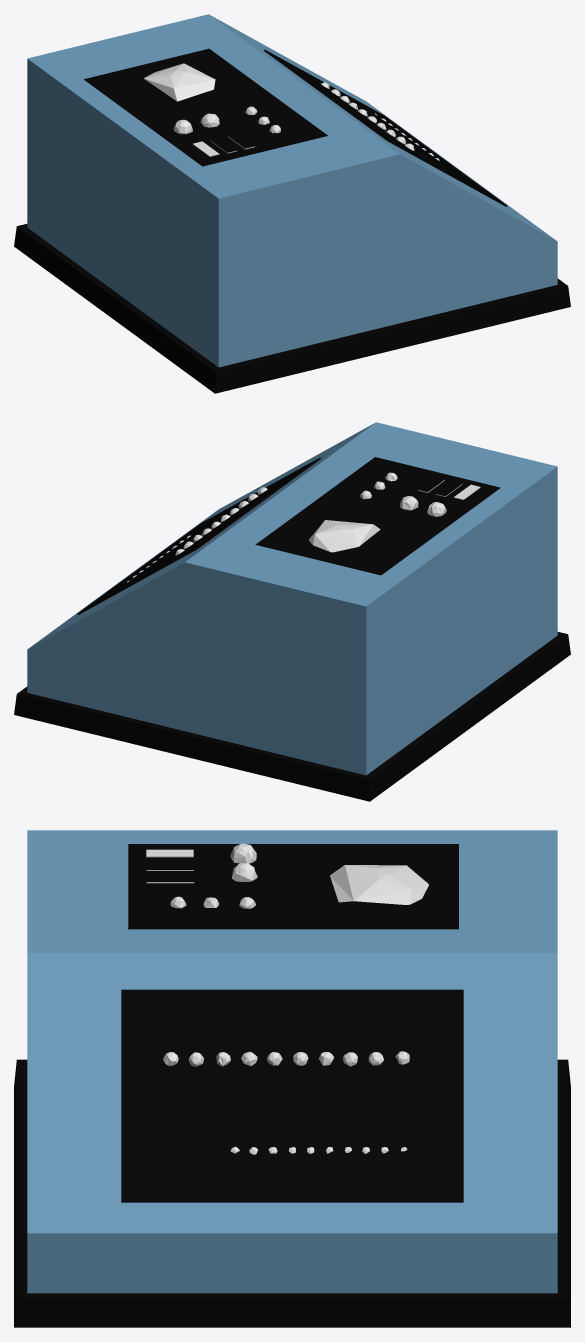
File: sf_portable_lab_computer.glb
3 renders of one model, top to bottom at view 1: azimuth 30°, elevation 25°; view 2: azimuth 150°, elevation 25°; view 3: azimuth 270°, elevation 25°, orthographic. The views are drawn at different scales.
Visible parts, largest first — view 1: Material.019, Material_001.006, Material_002.009, Material_007.005, Material_008.003; view 2: Material.019, Material_001.006, Material_002.009, Material_007.005, Material_008.003; view 3: Material.019, Material_001.006, Material_002.009, Material_008.003, Material_007.005, Material_006.006.
Part boxes in pixels (left/top/right/bottom): Material.019: left=27, top=14, right=557, bottom=367; Material_001.006: left=14, top=48, right=570, bottom=393; Material_002.009: left=144, top=63, right=439, bottom=160; Material_007.005: left=173, top=106, right=257, bottom=134; Material_008.003: left=321, top=82, right=414, bottom=150; Material.019: left=27, top=422, right=557, bottom=775; Material_001.006: left=14, top=457, right=570, bottom=801; Material_002.009: left=127, top=520, right=380, bottom=582; Material_007.005: left=360, top=490, right=446, bottom=516; Material_008.003: left=175, top=487, right=267, bottom=555; Material.019: left=27, top=830, right=557, bottom=1293; Material_001.006: left=14, top=844, right=570, bottom=1327; Material_002.009: left=230, top=865, right=428, bottom=1154; Material_008.003: left=163, top=1051, right=409, bottom=1066; Material_007.005: left=230, top=843, right=257, bottom=908; Material_006.006: left=146, top=849, right=218, bottom=908.
Bounding box in the file's own units: 0.4722 × 0.2541 × 0.4622.
